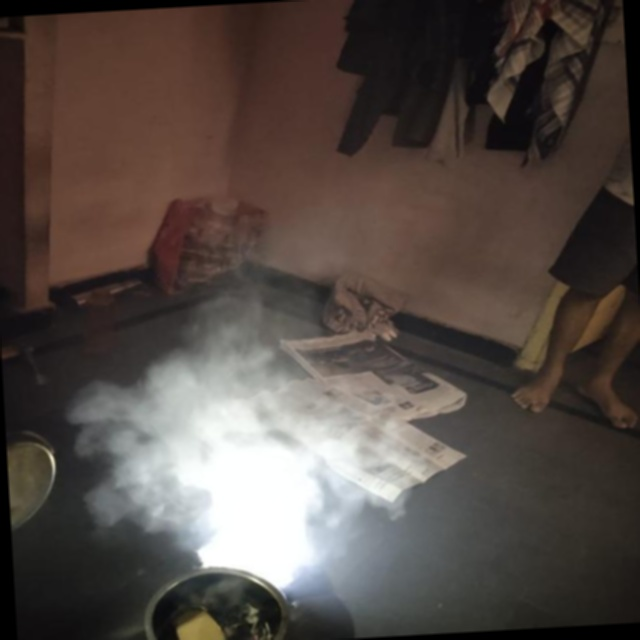smoke: (174, 371, 381, 591)
